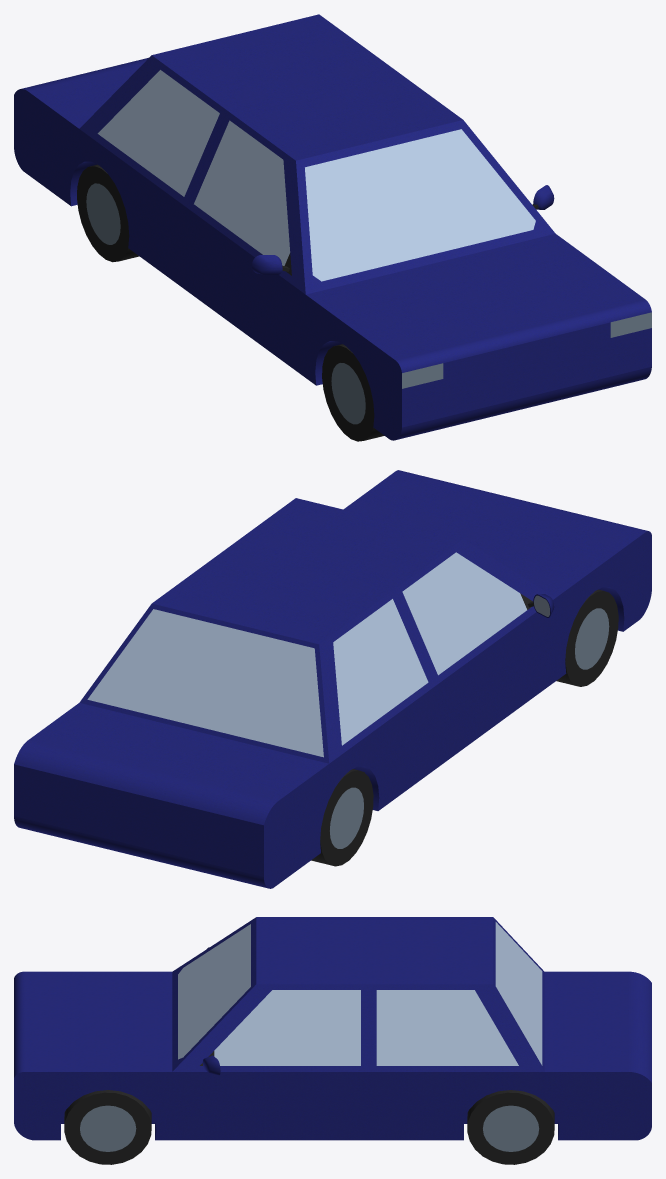
Rendered from blue_car.dae.
3 renders of one model, top to bottom at view 1: azimuth 30°, elevation 25°; view 2: azimuth 150°, elevation 25°; view 3: azimuth 270°, elevation 25°, orthographic. The views are drawn at different scales.
Parts seen in each view (by area): view 1: SketchUp (×10); view 2: SketchUp (×8); view 3: SketchUp (×9).
Boxes of the visible parts, bbox=[...] form: SketchUp (×10): bbox=[14, 14, 651, 441]; SketchUp (×8): bbox=[14, 470, 651, 888]; SketchUp (×9): bbox=[14, 917, 651, 1164].
Size of the model in its own units: 71.26 by 160 by 45.82.
Materials: 5 (1 with a texture image).
